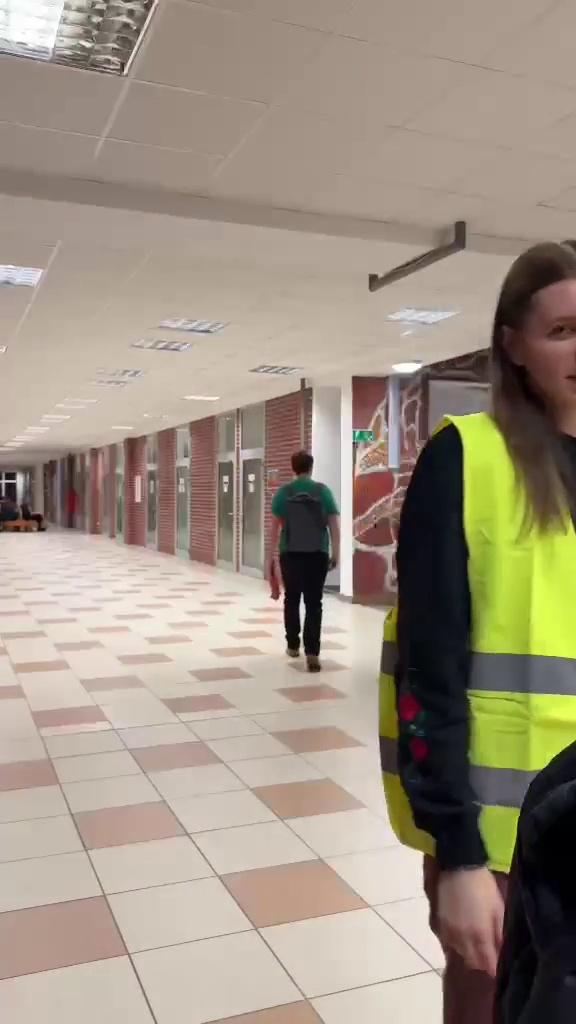no vest: (265, 451, 344, 662)
vest: (384, 232, 576, 983)
